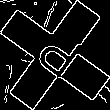P_SW: (25, 24, 85, 86)
